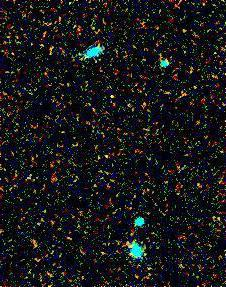star: (99, 81, 129, 111)
